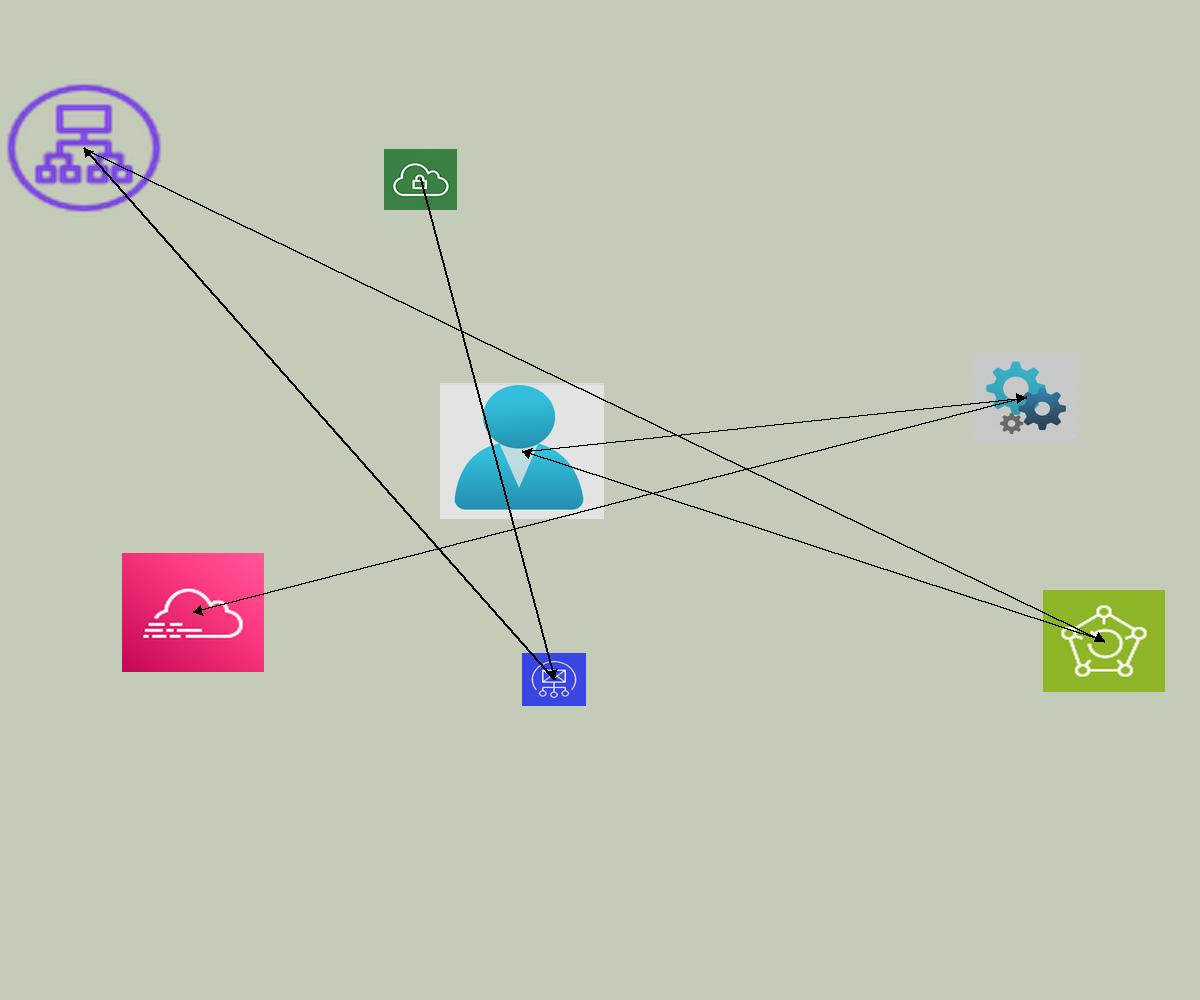AWS-Backup: (1043, 590, 1165, 692)
AWS-CloudTrail: (122, 553, 264, 672)
AWS-Private_vpc: (384, 149, 457, 210)
AWS-Res_Elastic-Load-Balancing_Application-Load-Balancer: (1, 79, 167, 217)
AWS-Simple-Email-Service: (522, 653, 586, 706)
Azure_api: (973, 353, 1079, 442)
Azure_users: (440, 383, 604, 519)
